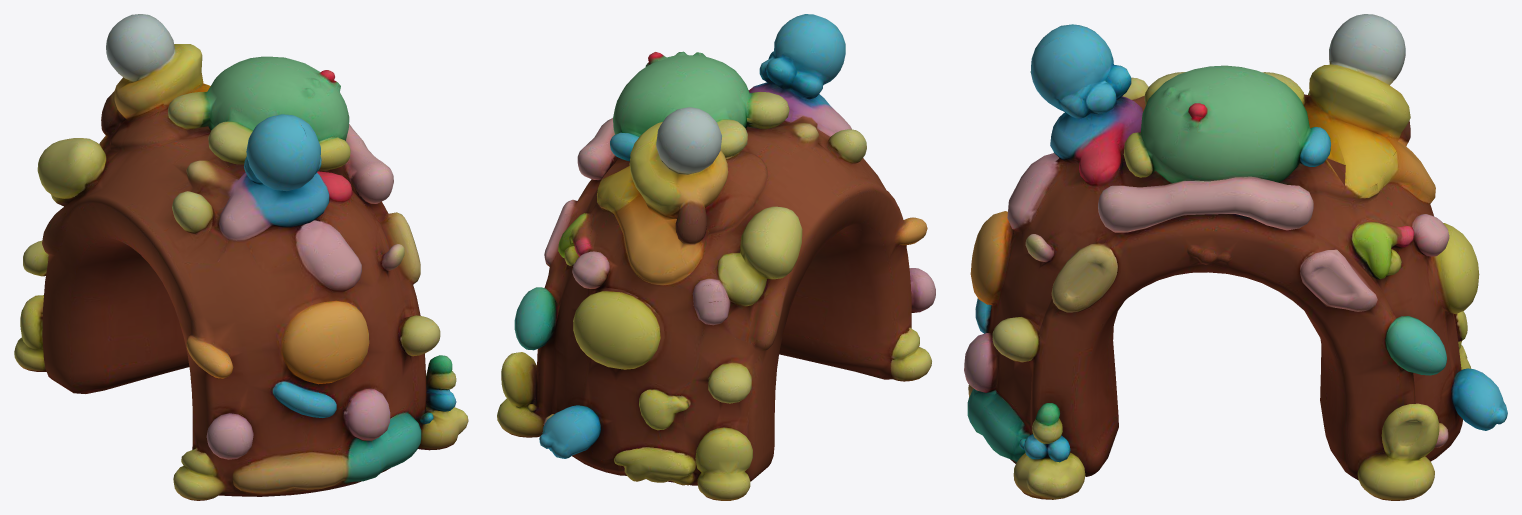
File: env_nest_arch_vibe_01.glb
3 views of the same model, side by side, from view 1: azimuth 30°, elevation 25°; view 2: azimuth 150°, elevation 25°; view 3: azimuth 270°, elevation 25° (orthographic). The views are drawn at different scales.
Visible parts, largest first — view 1: env_nest_arch_vibe_01; view 2: env_nest_arch_vibe_01; view 3: env_nest_arch_vibe_01.
Part boxes in pixels (x1=…): env_nest_arch_vibe_01: x1=14, y1=14, x2=468, y2=500; env_nest_arch_vibe_01: x1=497, y1=14, x2=935, y2=500; env_nest_arch_vibe_01: x1=964, y1=14, x2=1507, y2=500.
Size of the model in its own units: 2.52 by 3 by 3.78.
Materials: 1 (1 with a texture image).
